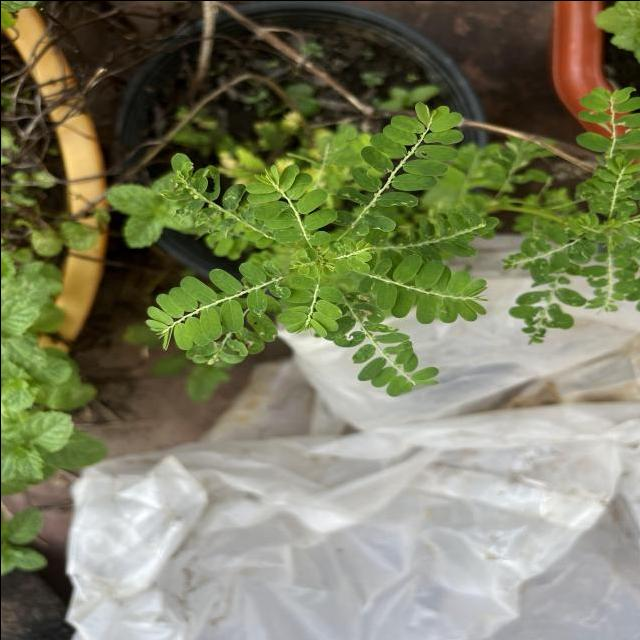Phyllanthus niruri: (324, 100, 466, 238), (142, 258, 290, 352), (323, 300, 438, 398), (354, 252, 490, 324), (242, 160, 337, 244), (275, 270, 343, 338)
